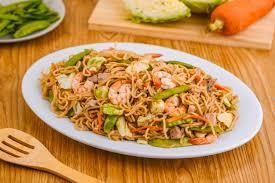pancit bihon: (40, 45, 237, 150)
